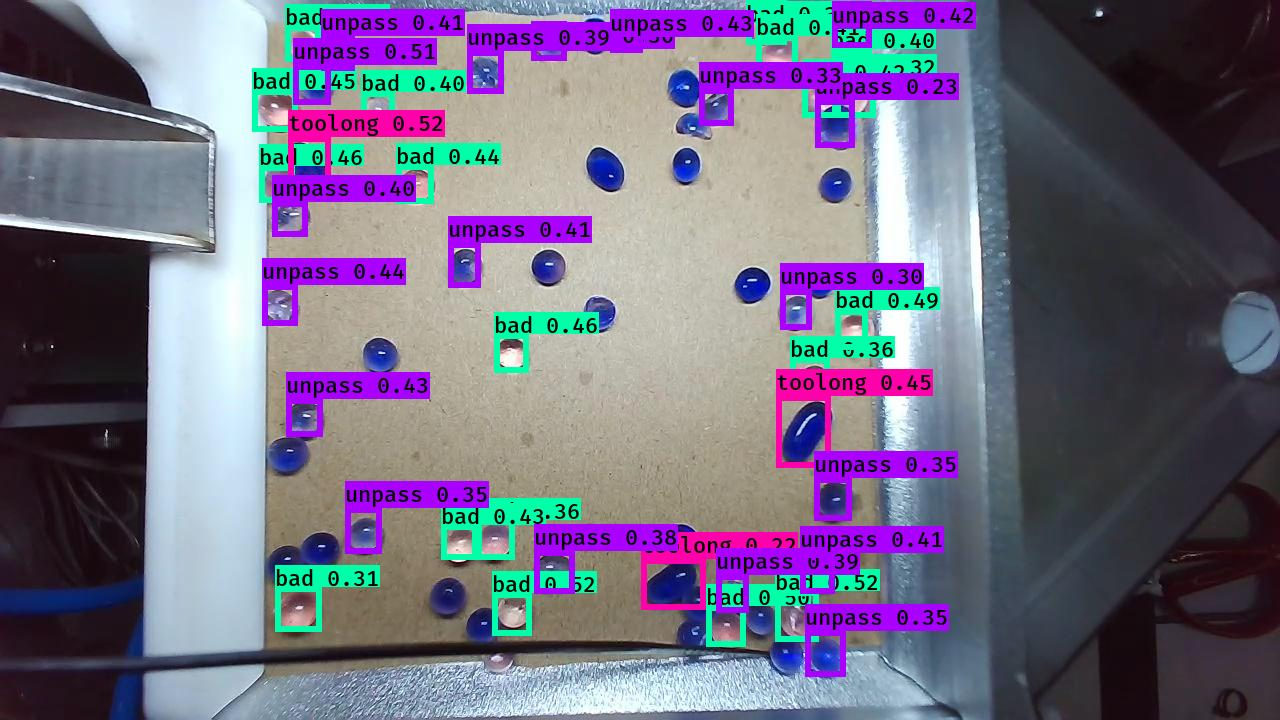bad: (272, 587, 320, 636), (773, 592, 820, 639), (254, 88, 302, 133), (756, 36, 801, 83), (745, 3, 786, 47), (258, 164, 301, 205), (707, 611, 748, 652), (477, 636, 518, 677), (285, 27, 325, 66), (397, 166, 436, 206), (475, 521, 513, 562), (493, 336, 530, 378), (832, 52, 873, 89), (837, 312, 876, 350), (358, 91, 397, 129), (496, 590, 533, 630), (440, 527, 479, 564), (838, 79, 875, 116), (797, 363, 833, 400), (803, 80, 836, 118)
defact: (671, 109, 717, 145)
pass: (587, 143, 625, 198), (659, 520, 701, 567), (460, 604, 503, 648), (530, 250, 573, 292), (259, 542, 301, 585), (300, 529, 340, 572), (364, 330, 403, 374), (732, 266, 772, 308), (426, 576, 468, 616), (665, 67, 704, 110), (580, 291, 619, 333), (667, 147, 705, 188), (681, 582, 719, 623), (816, 170, 853, 210), (802, 263, 838, 301), (677, 613, 713, 650), (578, 16, 612, 54)
toolong: (778, 397, 834, 469), (640, 561, 697, 610), (287, 139, 331, 201)
unpass: (528, 551, 576, 596), (832, 1, 875, 51), (814, 475, 856, 525), (341, 515, 385, 558), (266, 436, 308, 481), (806, 634, 848, 678), (816, 106, 856, 152), (259, 288, 303, 329), (608, 9, 646, 55), (293, 66, 336, 105), (767, 637, 805, 679), (283, 398, 322, 437), (468, 55, 506, 95), (447, 247, 484, 288), (801, 554, 840, 592), (318, 33, 355, 71), (272, 202, 311, 238), (703, 89, 736, 131), (536, 25, 571, 64), (777, 292, 813, 329), (744, 600, 778, 636), (717, 576, 750, 612)
